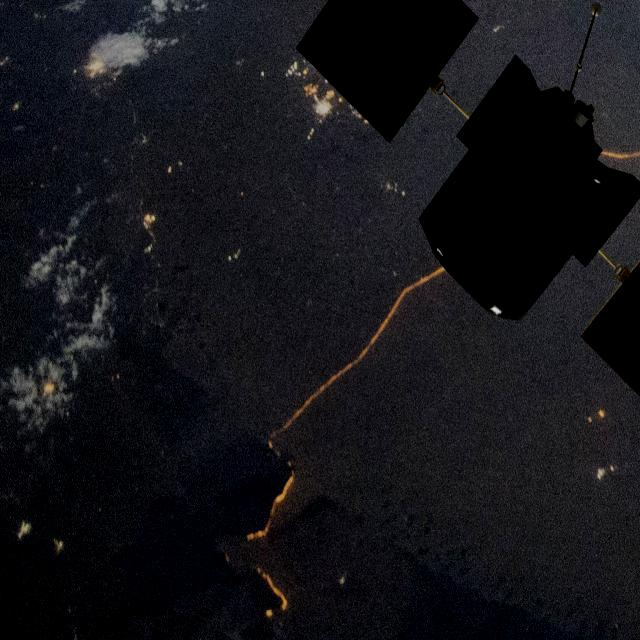satellite: (261, 0, 640, 400)
